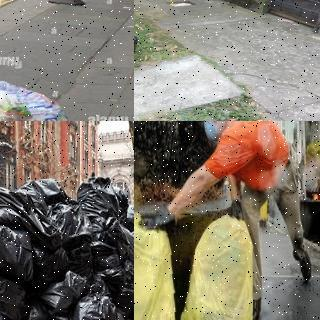Garbage: (176, 212, 256, 320), (134, 211, 194, 320), (0, 58, 75, 121), (0, 182, 63, 244), (39, 268, 89, 320), (0, 215, 38, 282), (89, 213, 134, 263), (76, 174, 120, 223), (70, 288, 118, 320), (93, 241, 125, 284)
